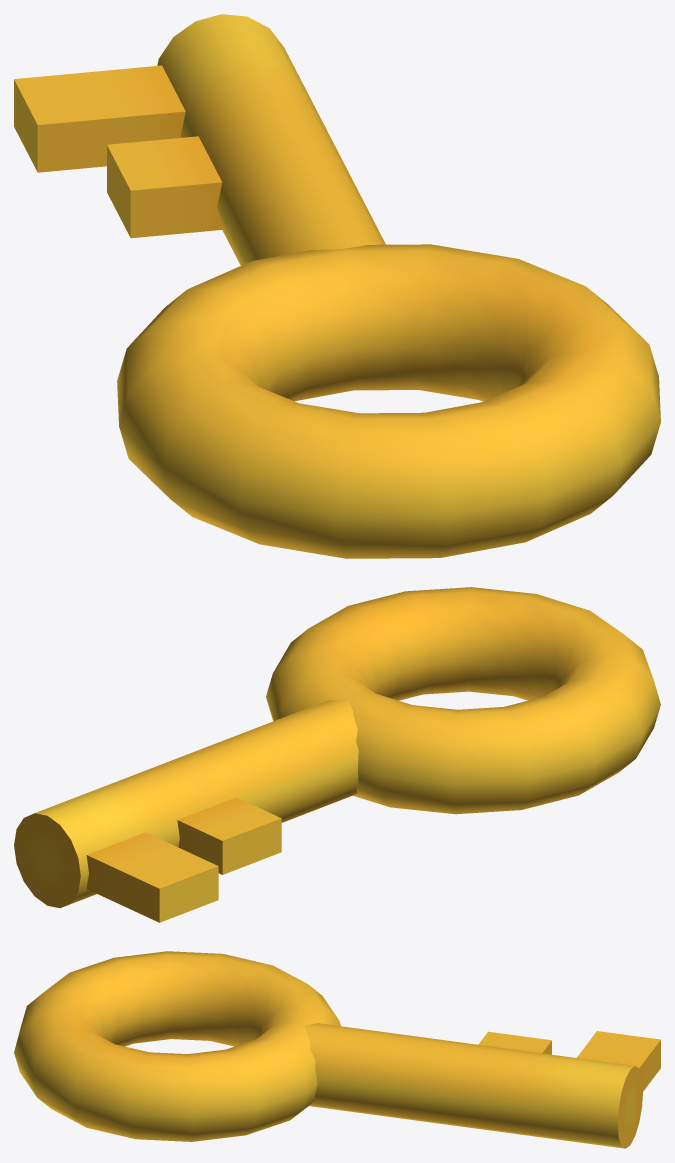
Rendered from key_1.fbx.
3 views of the same model, one above another, from view 1: azimuth 30°, elevation 25°; view 2: azimuth 150°, elevation 25°; view 3: azimuth 270°, elevation 25° (orthographic). The views are drawn at different scales.
Visible parts, largest first — view 1: key_1; view 2: key_1; view 3: key_1.
Part boxes in pixels (x1,y1,x2,y2): key_1: [14, 14, 660, 558]; key_1: [14, 587, 660, 922]; key_1: [14, 951, 660, 1148].
Size of the model in its own units: 0.1367 by 0.0345 by 0.2532.
Materials: 1 (1 with a texture image).
